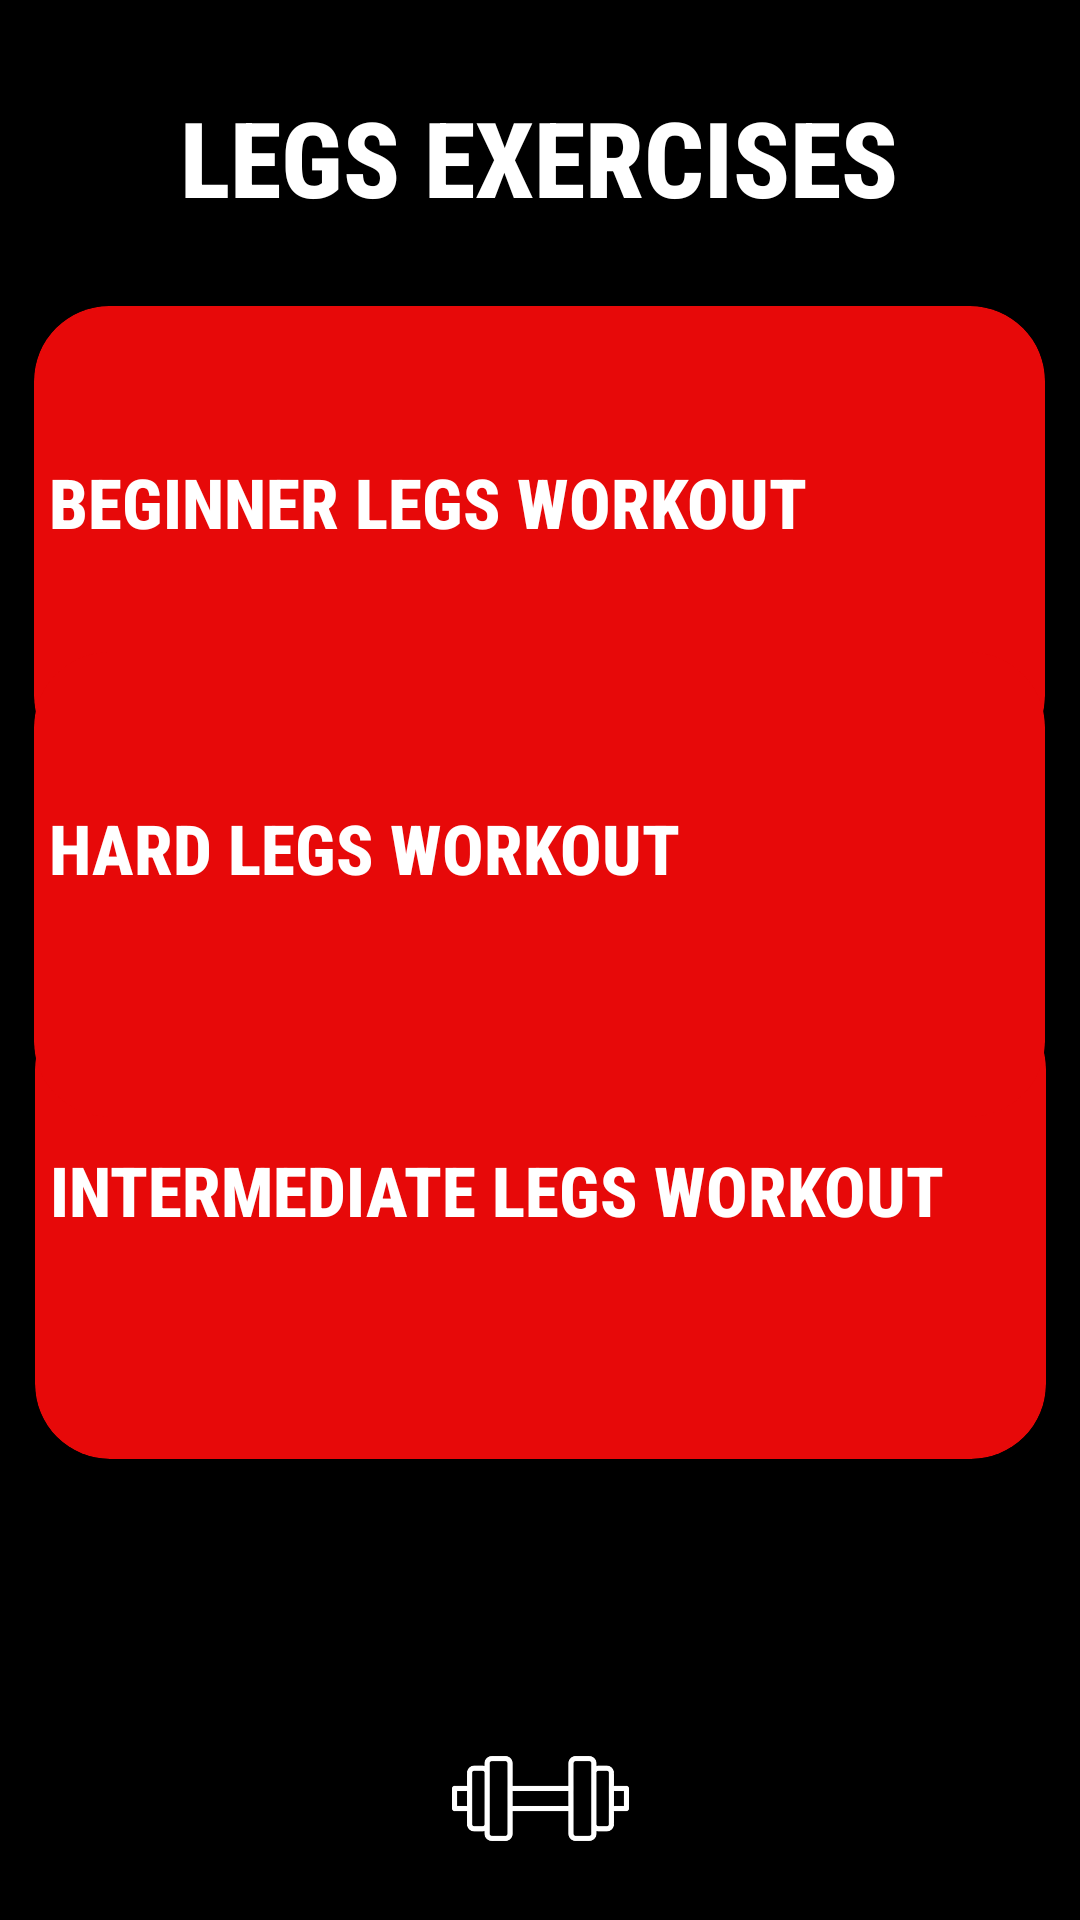

Icons on this 1080px x 1920px Android screen, each with the point to tap as (x=x, y=y):
imgdumbell: (x=540, y=1798)
